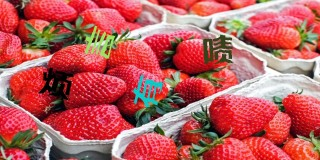啧: (202, 33, 235, 65)
有: (133, 75, 163, 109)
烦: (39, 67, 74, 102)
言: (84, 27, 114, 61)
